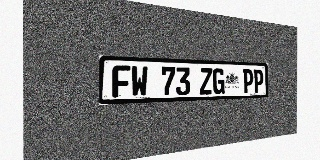3: (176, 67, 190, 95)
7: (161, 67, 175, 96)
F: (112, 65, 130, 98)
G: (213, 68, 225, 94)
P: (243, 69, 253, 93), (253, 69, 263, 93)
W: (131, 66, 148, 97)
Z: (200, 68, 212, 95)
